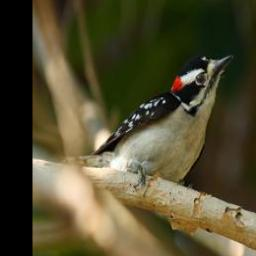Woodpecker: (59, 45, 234, 193)
